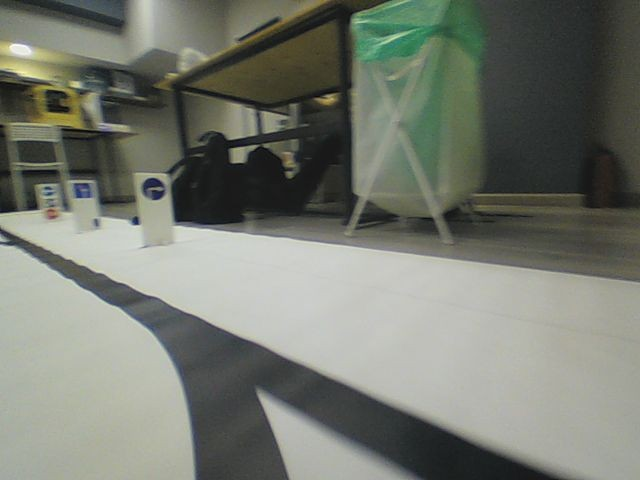Right: (139, 176, 166, 202)
